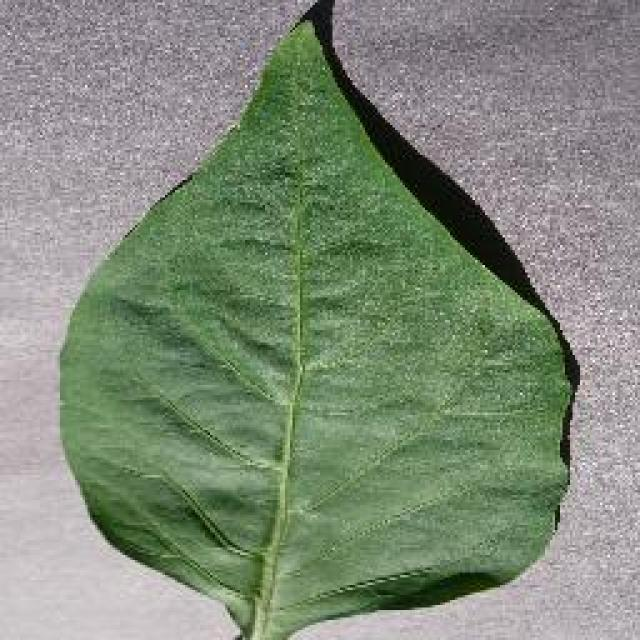Chilli_Healthy: (55, 0, 580, 638)
